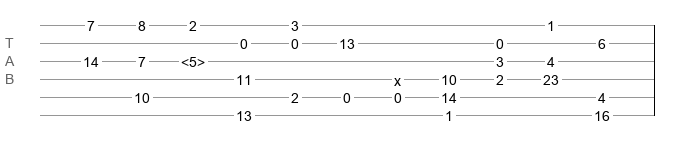0: (240, 36, 248, 46), (291, 36, 299, 46), (343, 90, 351, 100), (394, 90, 402, 100), (496, 36, 504, 46)
1: (445, 108, 453, 118), (547, 18, 555, 28)
10: (134, 90, 150, 100), (441, 72, 457, 82)
11: (236, 72, 252, 82)
13: (236, 108, 252, 118), (339, 36, 355, 46)
14: (83, 54, 99, 64), (441, 90, 457, 100)
16: (594, 108, 610, 118)
2: (189, 18, 197, 28), (291, 90, 299, 100), (496, 72, 504, 82)
23: (543, 72, 559, 82)
3: (291, 18, 299, 28), (496, 54, 504, 64)
4: (547, 54, 555, 64), (598, 90, 606, 100)
6: (598, 36, 606, 46)
7: (87, 18, 95, 28), (138, 54, 146, 64)
8: (138, 18, 146, 28)
harmonic: (181, 54, 205, 64)
x: (394, 73, 401, 81)
